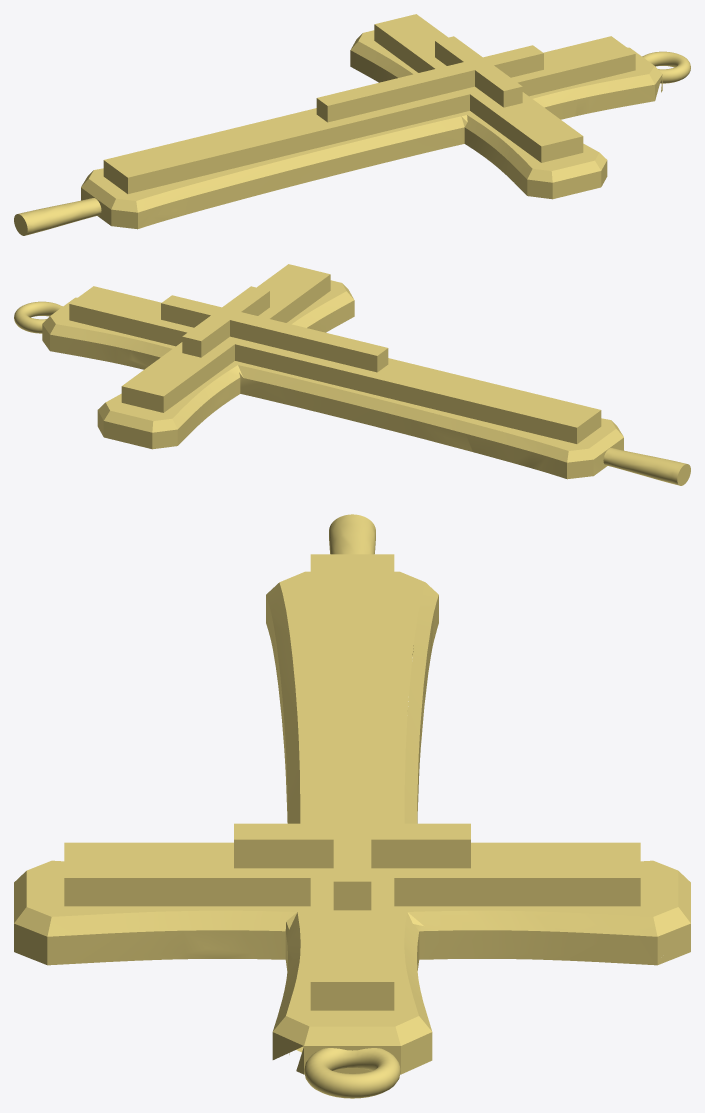
File: kolye34-2.glb
3 views of the same model, one above another, from view 1: azimuth 30°, elevation 25°; view 2: azimuth 150°, elevation 25°; view 3: azimuth 270°, elevation 25° (orthographic). The views are drawn at different scales.
Visible parts, largest first — view 1: Renderer Node; view 2: Renderer Node; view 3: Renderer Node.
Boxes of the visible parts, x1,y1,x2,y2 form: Renderer Node: (14, 14, 690, 235); Renderer Node: (14, 264, 690, 485); Renderer Node: (14, 514, 690, 1098).
Bounding box in the file's own units: 42.62 × 3.62 × 21.72.
